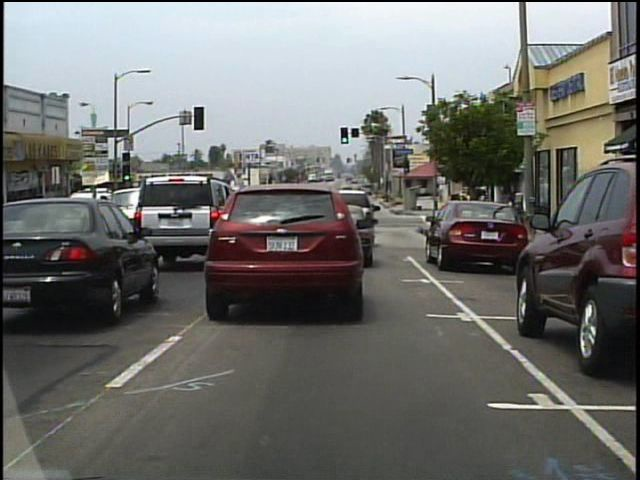person: (477, 192, 494, 233), (469, 194, 482, 237), (457, 193, 469, 237)
